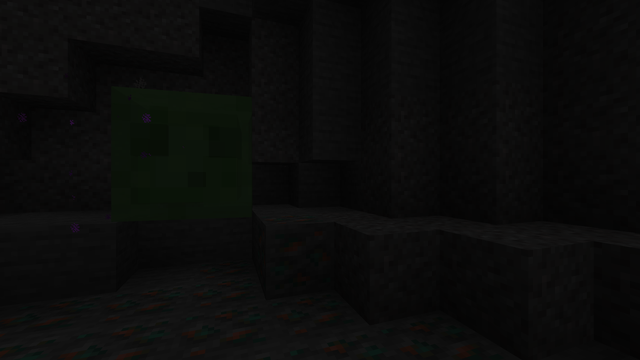slimes: (111, 77, 259, 222)
